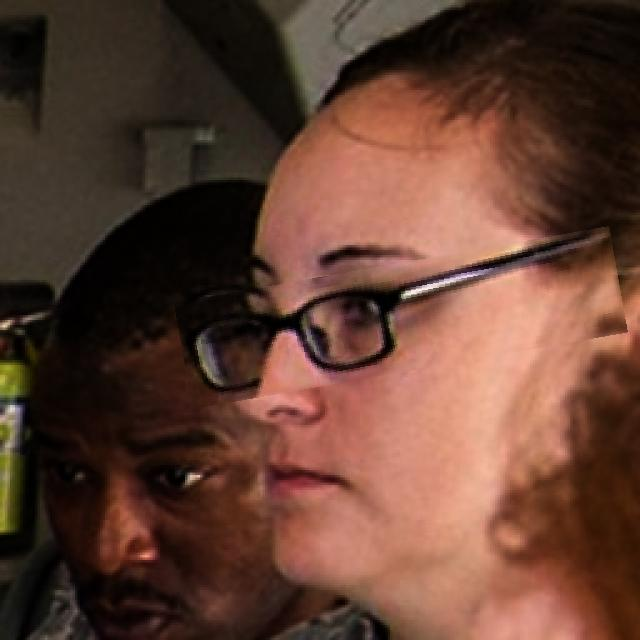glasses: (178, 245, 626, 391)
